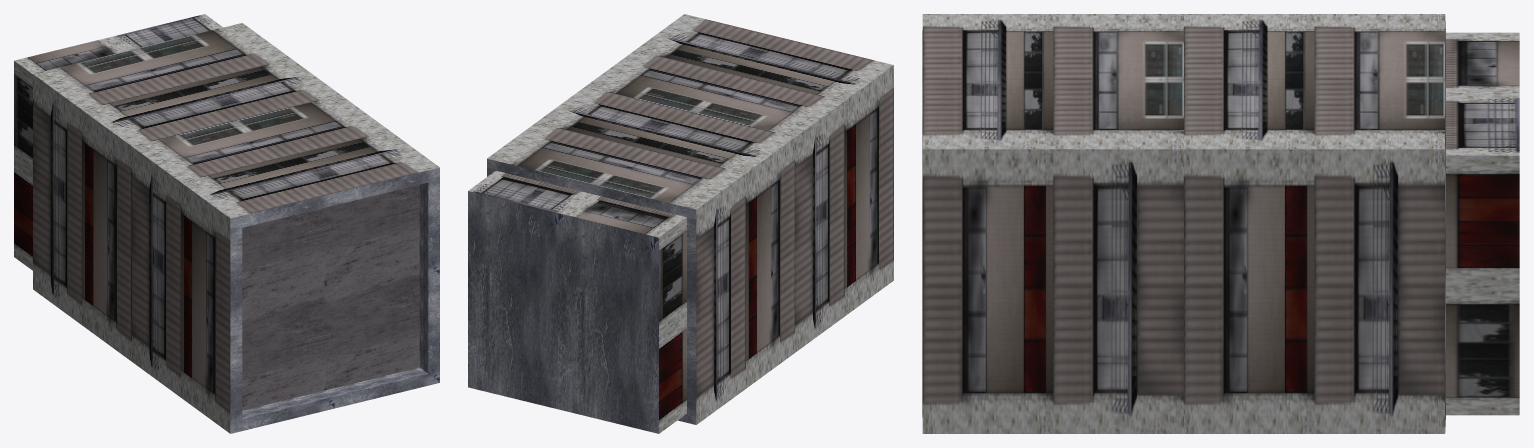
The model's file is urbanoffice1c_wtf.obj.
3 renders of one model, left to right at view 1: azimuth 30°, elevation 25°; view 2: azimuth 150°, elevation 25°; view 3: azimuth 270°, elevation 25°, orthographic. The views are drawn at different scales.
Parts seen in each view (by area): view 1: group5, group4, group3; view 2: group5, group3; view 3: group5, group3.
Part boxes in pixels (x1,y1,x2,y2): group5: (14,14,439,433); group4: (242,184,419,410); group3: (230,167,439,433); group5: (468,14,893,433); group3: (468,158,696,433); group5: (922,14,1519,433); group3: (922,15,1445,432).
Bounding box in the file's own units: 353 × 347 × 660.
